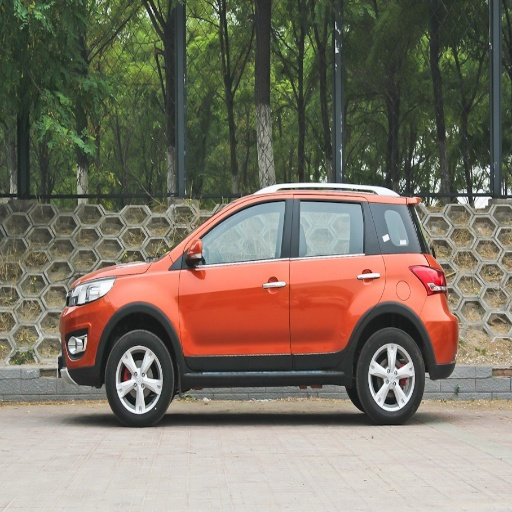back_left_door: (293, 192, 384, 365)
front_left_door: (179, 194, 293, 369)
